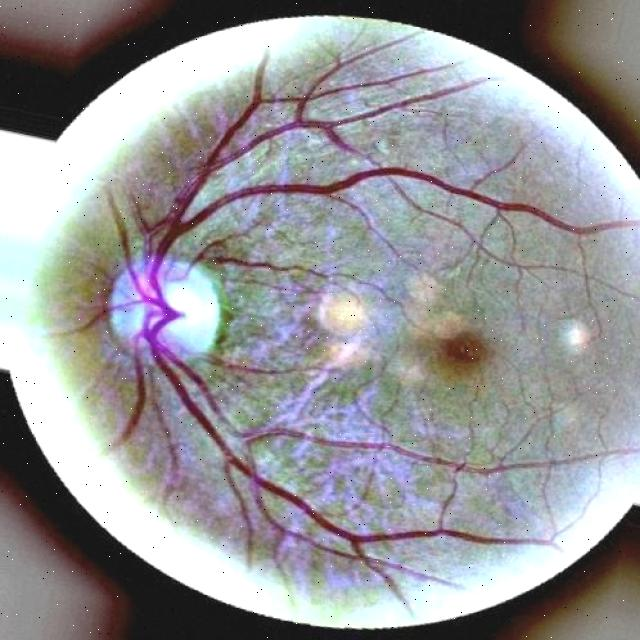Macula: (434, 332, 487, 377)
Nerves: (73, 48, 640, 603), (207, 342, 356, 407), (154, 400, 177, 477)
Optic Disk: (112, 257, 220, 360)
